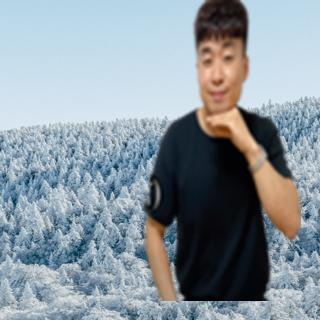Wait: (200, 104, 254, 153)
